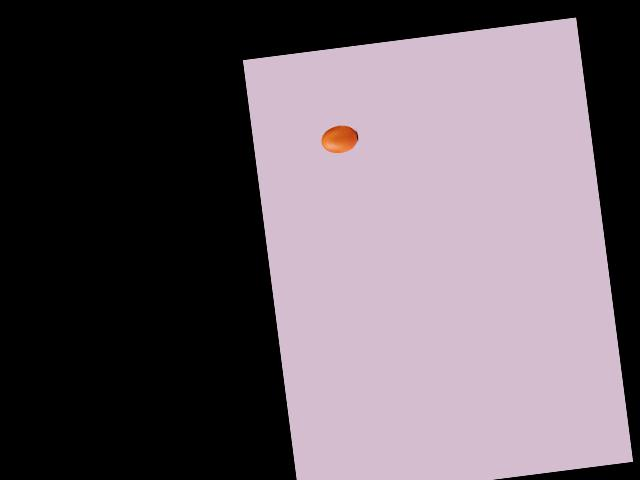egg: (319, 123, 359, 154)
